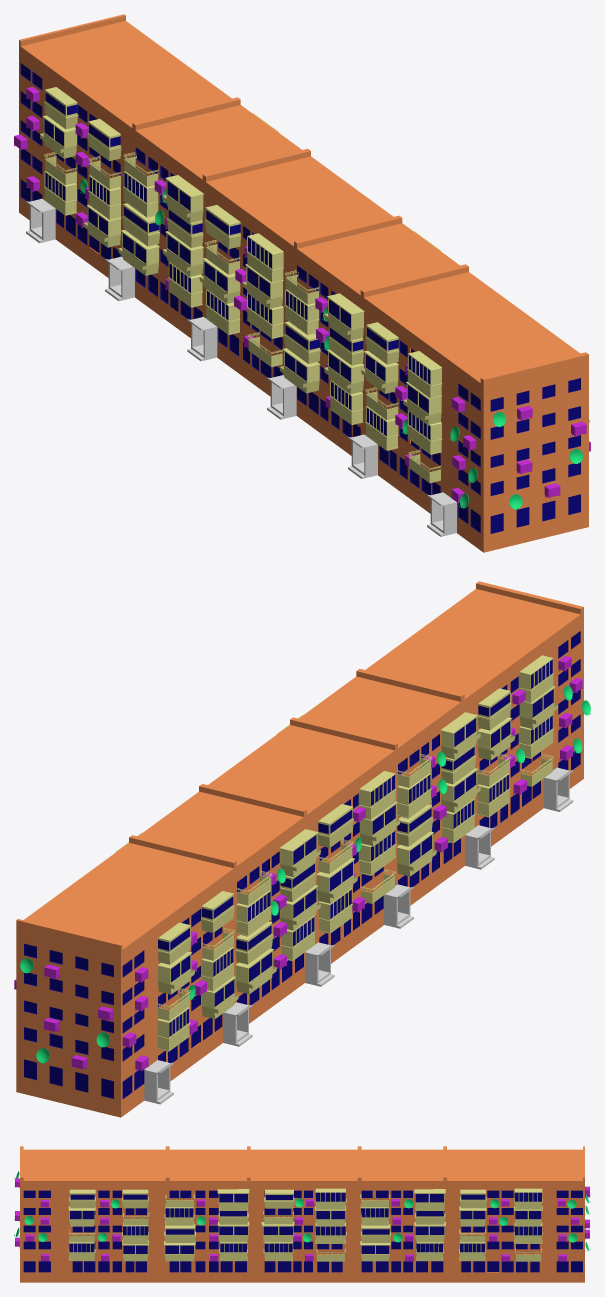
Rendered from 6podiez.fbx.
3 renders of one model, top to bottom at view 1: azimuth 30°, elevation 25°; view 2: azimuth 150°, elevation 25°; view 3: azimuth 270°, elevation 25°, orthographic. The views are drawn at different scales.
Visible parts, largest first — view 1: Cube.006, Плоскость.018, Cube.013, Cube.007, Cube.015, Cube.016, Cube.001, Cube.014; view 2: Cube.006, Плоскость.018, Cube.007, Cube.016, Cube.014, Cube.013, Cube.015, Cube.001; view 3: Cube.006, Плоскость.018.
Part boxes in pixels (x1,y1,x2,y2): Cube.006: (19, 14, 588, 552); Плоскость.018: (40, 87, 442, 483); Cube.013: (187, 317, 217, 361); Cube.007: (26, 198, 55, 243); Cube.015: (348, 434, 377, 478); Cube.016: (427, 492, 456, 536); Cube.001: (105, 256, 134, 301); Cube.014: (267, 375, 296, 419); Cube.006: (16, 581, 583, 1117); Плоскость.018: (116, 655, 557, 1051); Cube.007: (144, 1060, 173, 1104); Cube.016: (543, 767, 573, 811); Cube.014: (384, 884, 413, 928); Cube.013: (305, 942, 334, 986); Cube.015: (465, 825, 494, 869); Cube.001: (223, 1002, 252, 1046); Cube.006: (20, 1146, 584, 1282); Плоскость.018: (68, 1188, 542, 1261).
Size of the model in its own units: 2125 by 2516 by 12533.
